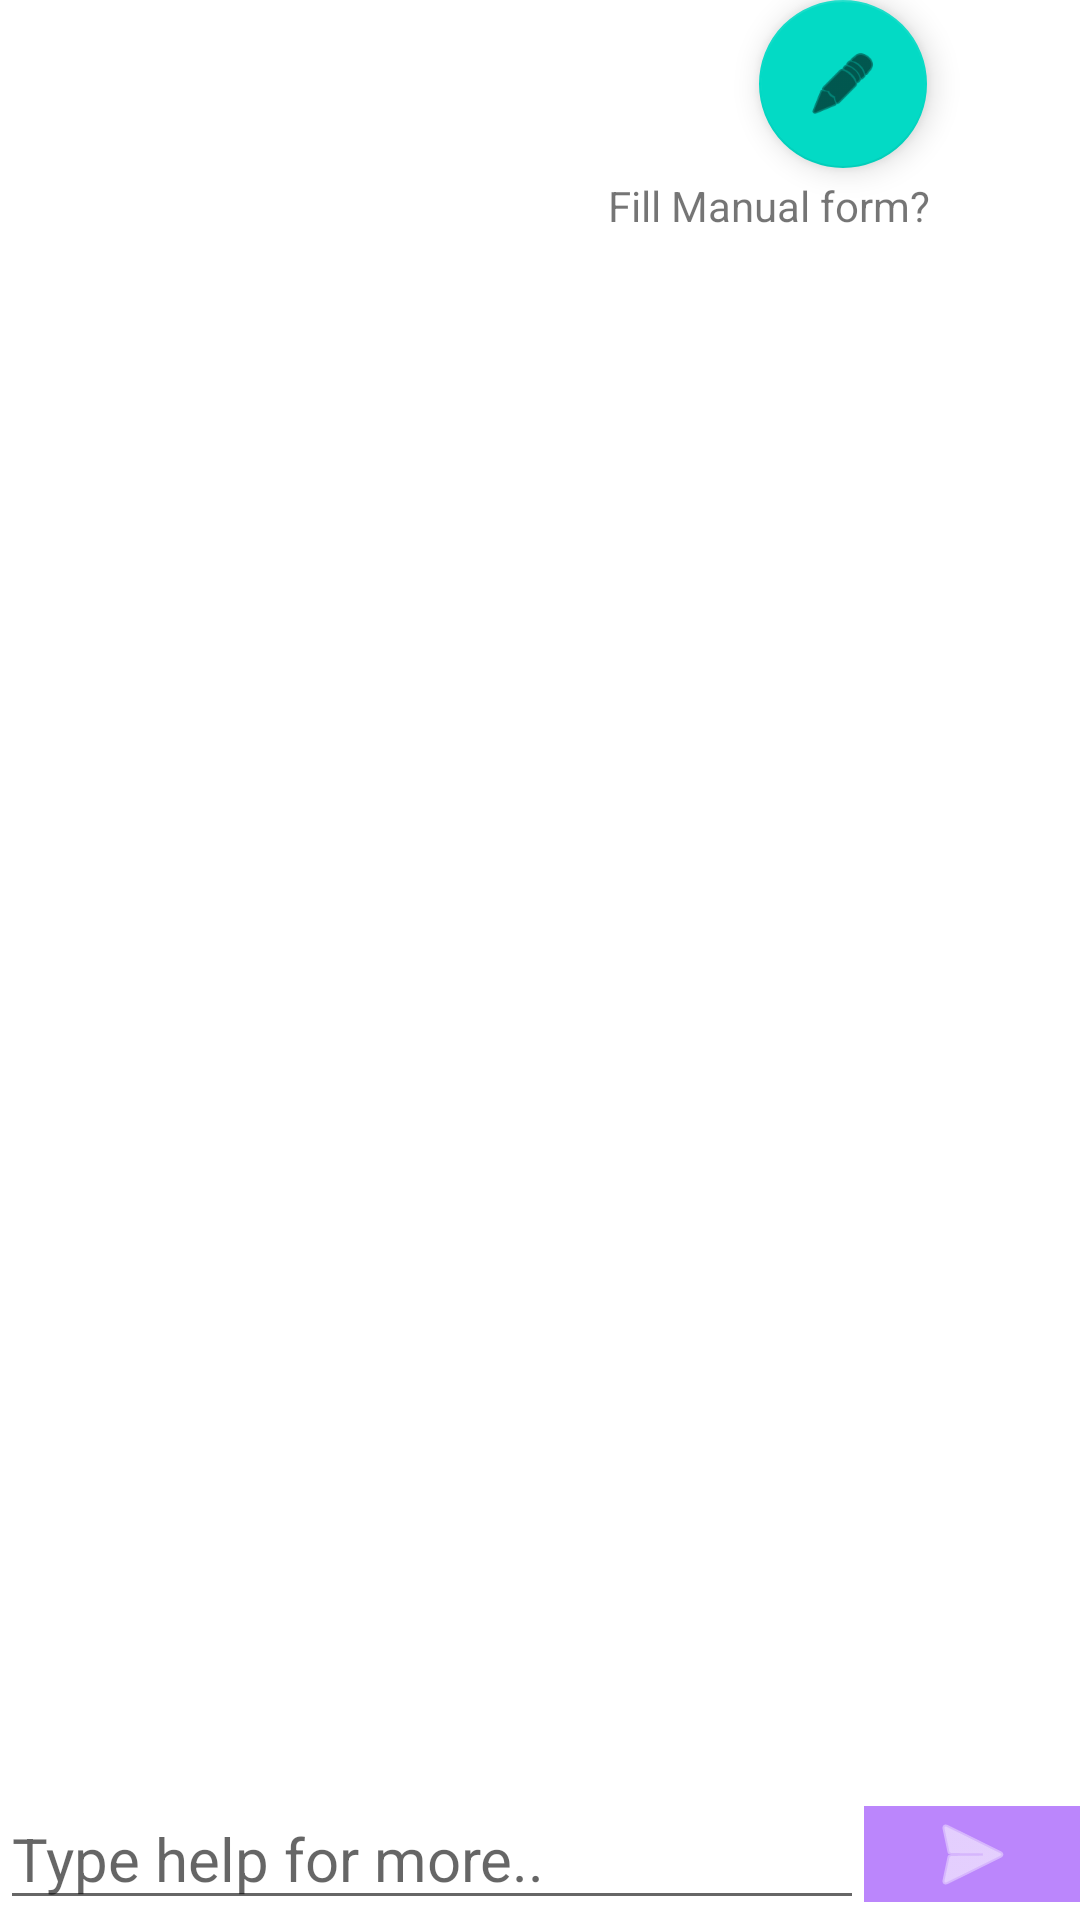

Where icons sit on this 1080 x 1920 app screen, as (x1, y1, x2, y2):
edit: (759, 0, 927, 168)
send: (864, 1806, 1080, 1902)
